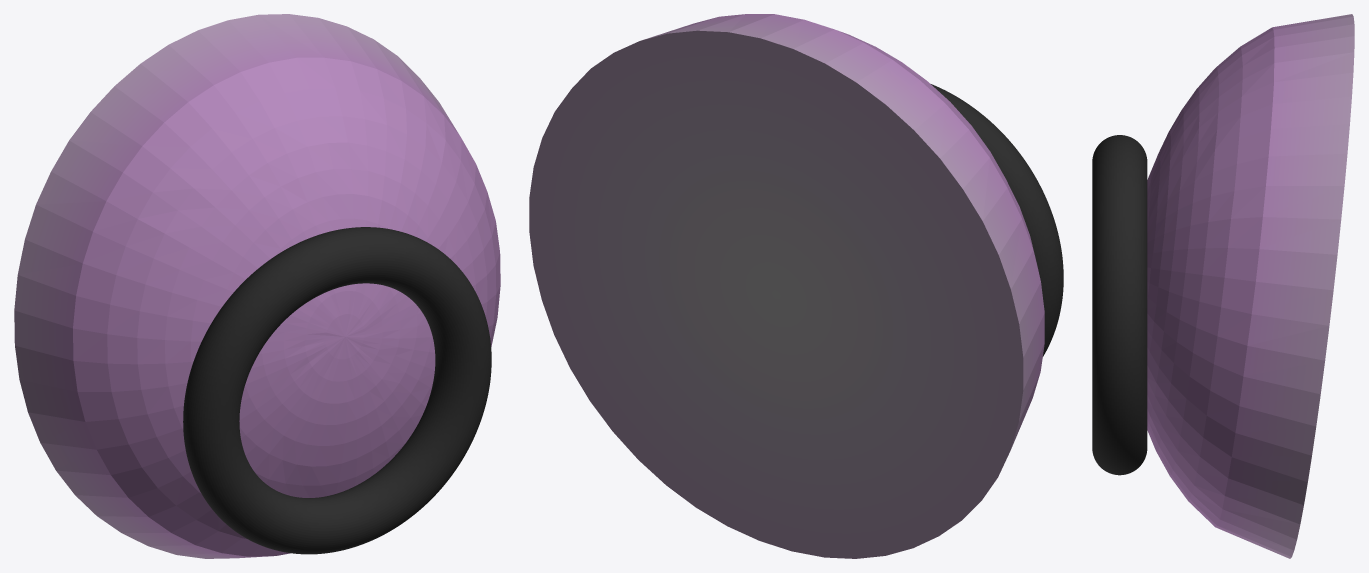
3 renders of one model, left to right at view 1: azimuth 30°, elevation 25°; view 2: azimuth 150°, elevation 25°; view 3: azimuth 270°, elevation 25°, orthographic. The views are drawn at different scales.
Visible parts, largest first — view 1: polyp_body_inferred_base_gray, fixed_CAD_Ring; view 2: polyp_body_inferred_base_gray, fixed_CAD_Ring; view 3: polyp_body_inferred_base_gray, fixed_CAD_Ring.
Boxes of the visible parts, left/top/right/bottom form: polyp_body_inferred_base_gray: left=14, top=14, right=500, bottom=558; fixed_CAD_Ring: left=183, top=227, right=491, bottom=554; polyp_body_inferred_base_gray: left=529, top=14, right=1044, bottom=558; fixed_CAD_Ring: left=931, top=84, right=1063, bottom=356; polyp_body_inferred_base_gray: left=1147, top=14, right=1354, bottom=558; fixed_CAD_Ring: left=1092, top=135, right=1147, bottom=475.
Size of the model in its own units: 0.0114 by 0.0119 by 0.00571.
